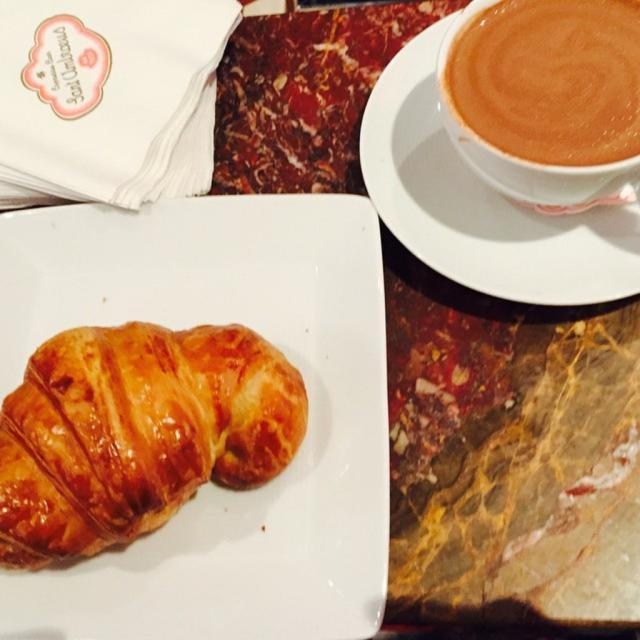Croissant: (0, 326, 310, 572)
